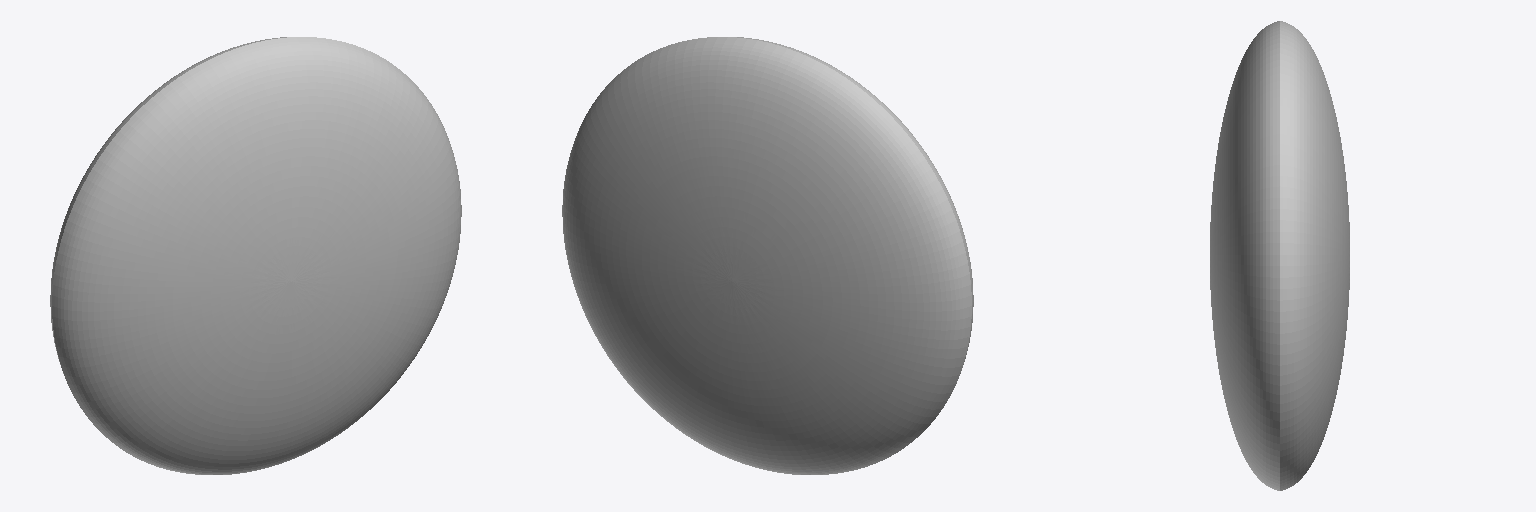
The model's file is lens.obj.
3 views of the same model, side by side, from view 1: azimuth 30°, elevation 25°; view 2: azimuth 150°, elevation 25°; view 3: azimuth 270°, elevation 25° (orthographic).
Parts seen in each view (by area): view 1: Sphere, Sphere.001; view 2: Sphere.001, Sphere; view 3: Sphere, Sphere.001.
Part boxes in pixels (x1,y1,x2,y2): Sphere: (52,37,461,474); Sphere.001: (50,37,286,373); Sphere.001: (562,37,971,474); Sphere: (737,37,973,373); Sphere: (1210,21,1279,490); Sphere.001: (1280,21,1349,490).
Size of the model in its own units: 1.99 by 1.99 by 0.5945.